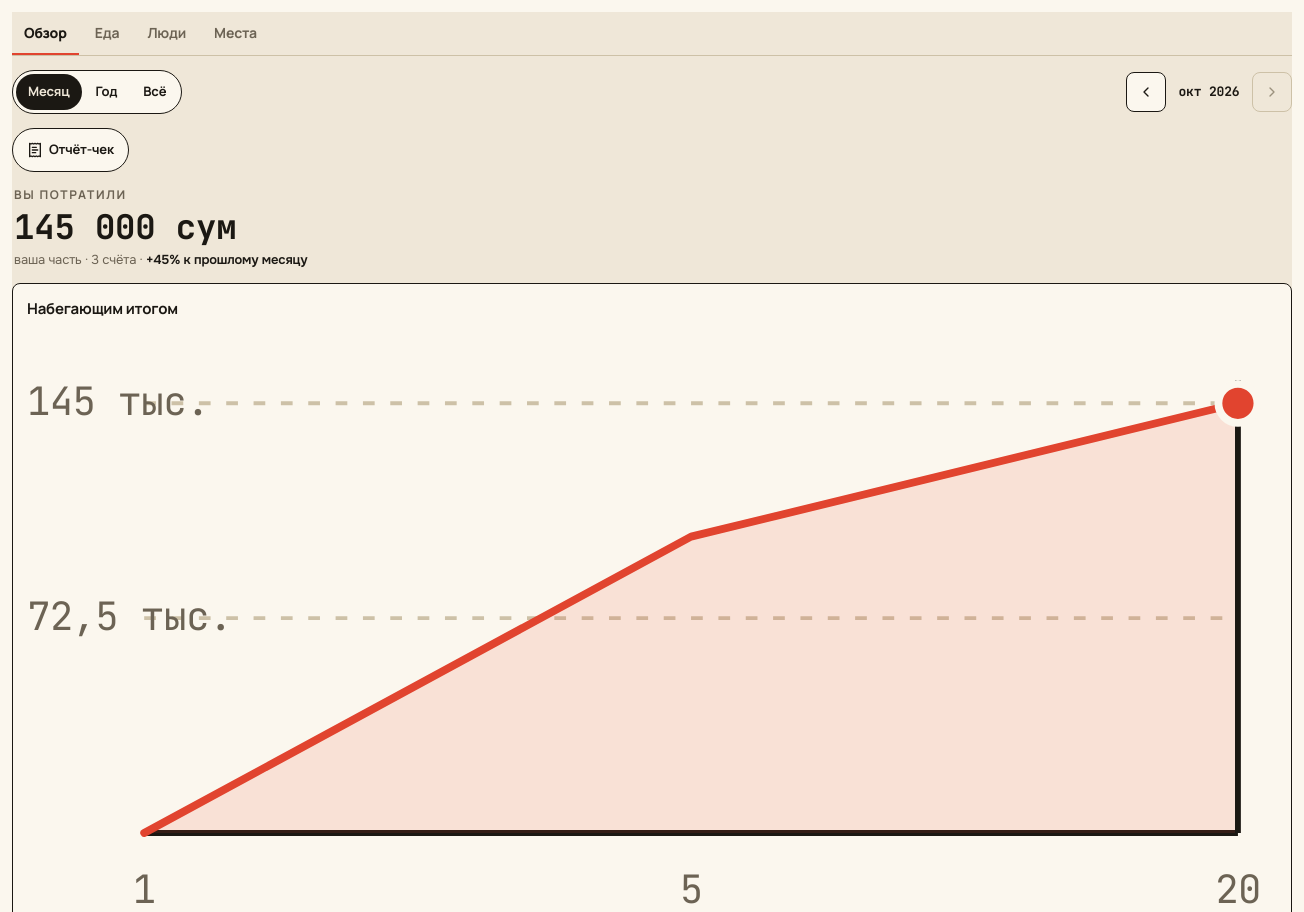
Test: AnalyticsPanel › steps back a month, and switches to a year
The width and height of the screenshot is (1304, 912).
Later steps or results of the test are not shown.
Expected: the text "Вы потратили" is shown, x1=14 y1=186 x2=127 y2=202
Click the button named "Предыдущий период". click: [1146, 92]
box: x1=1126 y1=72 x2=1166 y2=112
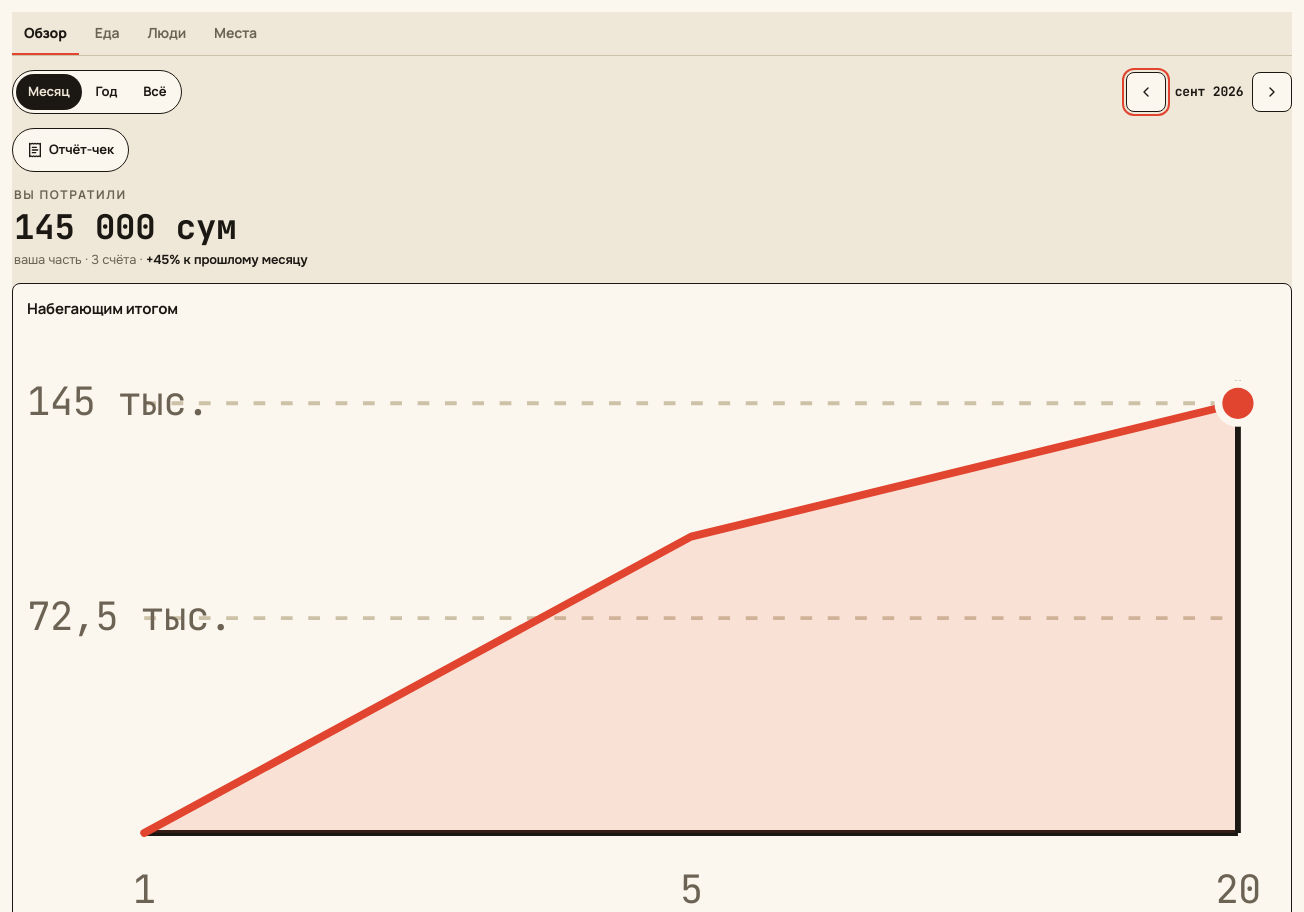
Expected: the button named "Следующий период" is enabled, x1=1252 y1=72 x2=1292 y2=112
